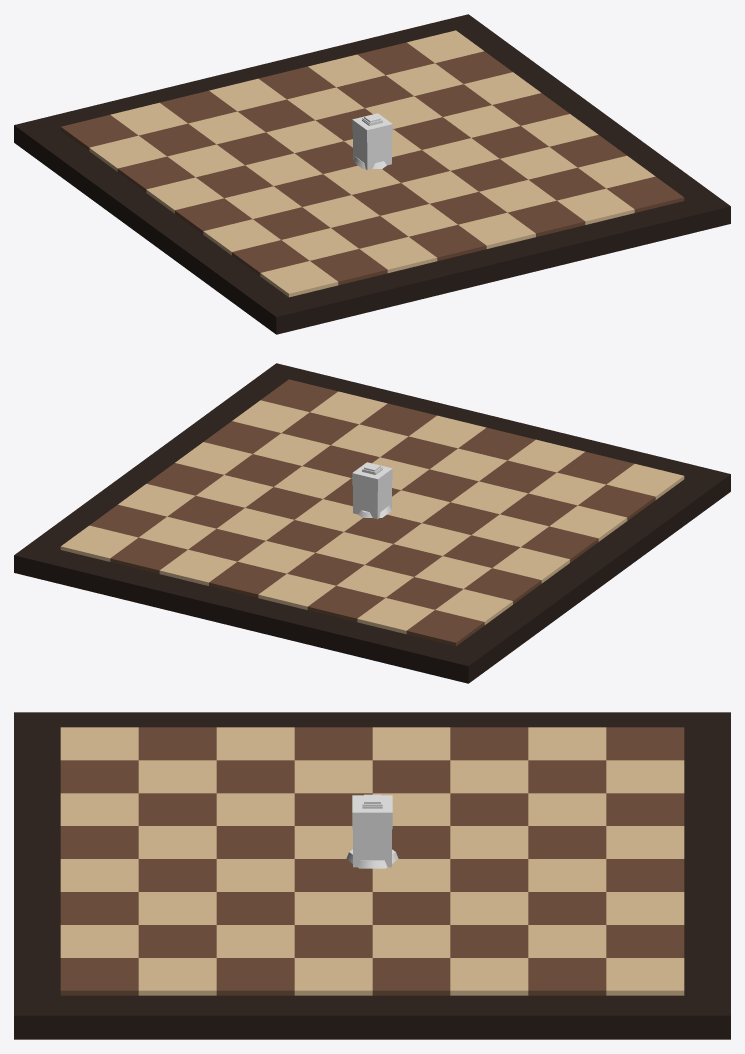
File: pipo-chess-set.gltf
3 views of the same model, one above another, from view 1: azimuth 30°, elevation 25°; view 2: azimuth 150°, elevation 25°; view 3: azimuth 270°, elevation 25° (orthographic). The views are drawn at different scales.
Parts seen in each view (by area): view 1: DarkSquare (×32), LightSquare (×31), BoardFrame, QueenPrototype, RookPrototype, KingPrototype; view 2: LightSquare (×32), DarkSquare (×31), BoardFrame, QueenPrototype, RookPrototype, KingPrototype; view 3: DarkSquare (×32), LightSquare (×32), BoardFrame, QueenPrototype, RookPrototype, KingPrototype.
Boxes of the visible parts, left/top/right/bottom form: DarkSquare (×32): left=60, top=42, right=684, bottom=285; LightSquare (×31): left=89, top=30, right=655, bottom=297; BoardFrame: left=14, top=14, right=730, bottom=334; QueenPrototype: left=353, top=117, right=391, bottom=170; RookPrototype: left=352, top=113, right=392, bottom=142; KingPrototype: left=357, top=114, right=391, bottom=167; LightSquare (×32): left=60, top=391, right=684, bottom=634; DarkSquare (×31): left=89, top=379, right=655, bottom=646; BoardFrame: left=14, top=363, right=730, bottom=683; QueenPrototype: left=353, top=466, right=391, bottom=519; RookPrototype: left=352, top=462, right=392, bottom=491; KingPrototype: left=353, top=463, right=384, bottom=515; DarkSquare (×32): left=60, top=727, right=684, bottom=995; LightSquare (×32): left=60, top=727, right=684, bottom=995; BoardFrame: left=14, top=712, right=730, bottom=1039; QueenPrototype: left=353, top=796, right=391, bottom=866; RookPrototype: left=352, top=795, right=392, bottom=829; KingPrototype: left=353, top=794, right=391, bottom=867.
Bounding box in the file's own units: 9.2 × 1.27 × 9.2.
